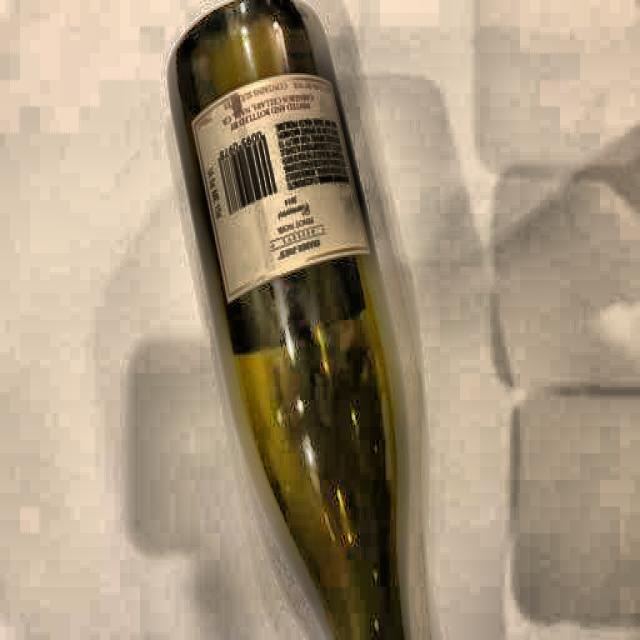glass: (168, 0, 443, 640)
